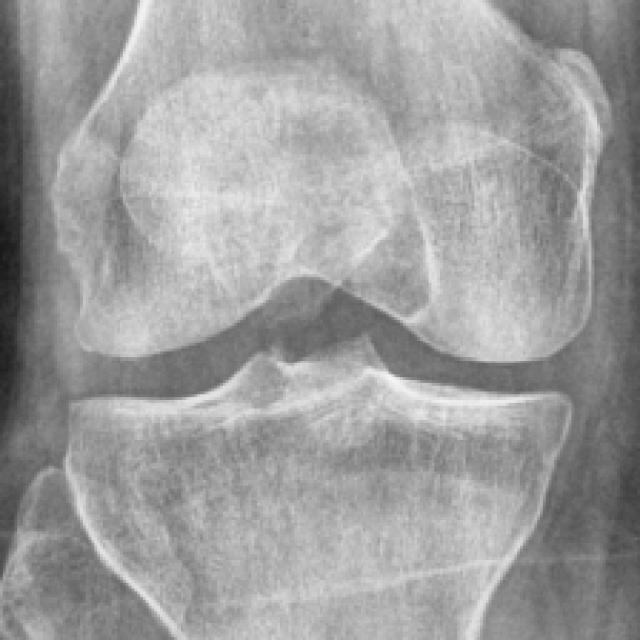femur: (54, 1, 612, 361)
tibia: (66, 334, 573, 640)
